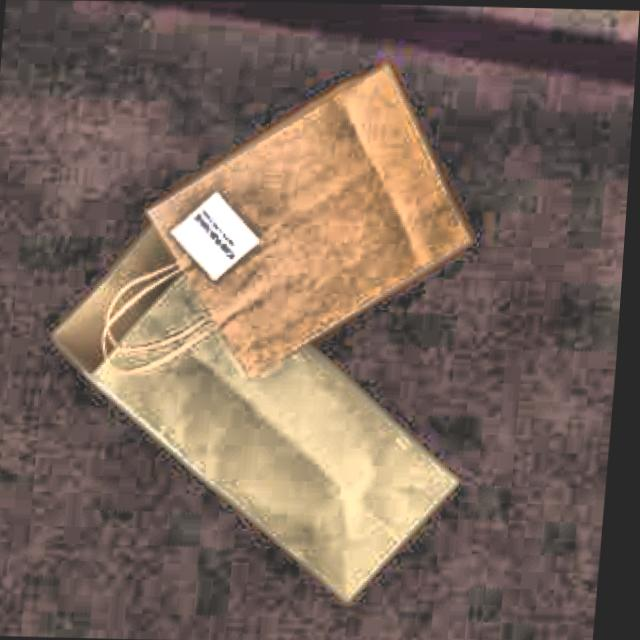Paper-bag: (15, 220, 498, 612), (133, 46, 497, 398)
